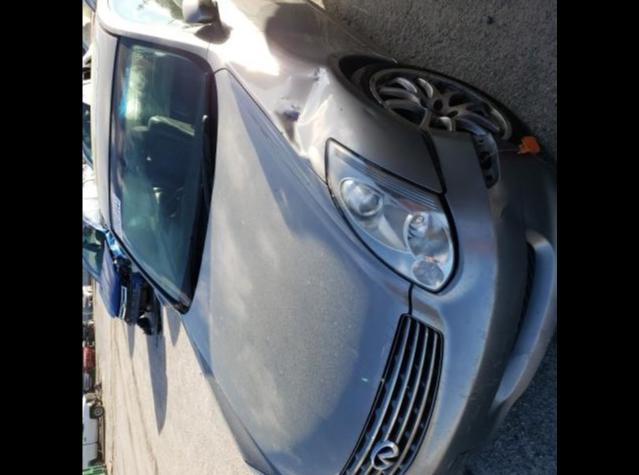Broken part: (417, 125, 464, 295), (469, 135, 500, 191)
Dent: (267, 61, 344, 153), (365, 110, 377, 118)
Paint chip: (273, 104, 303, 141)
